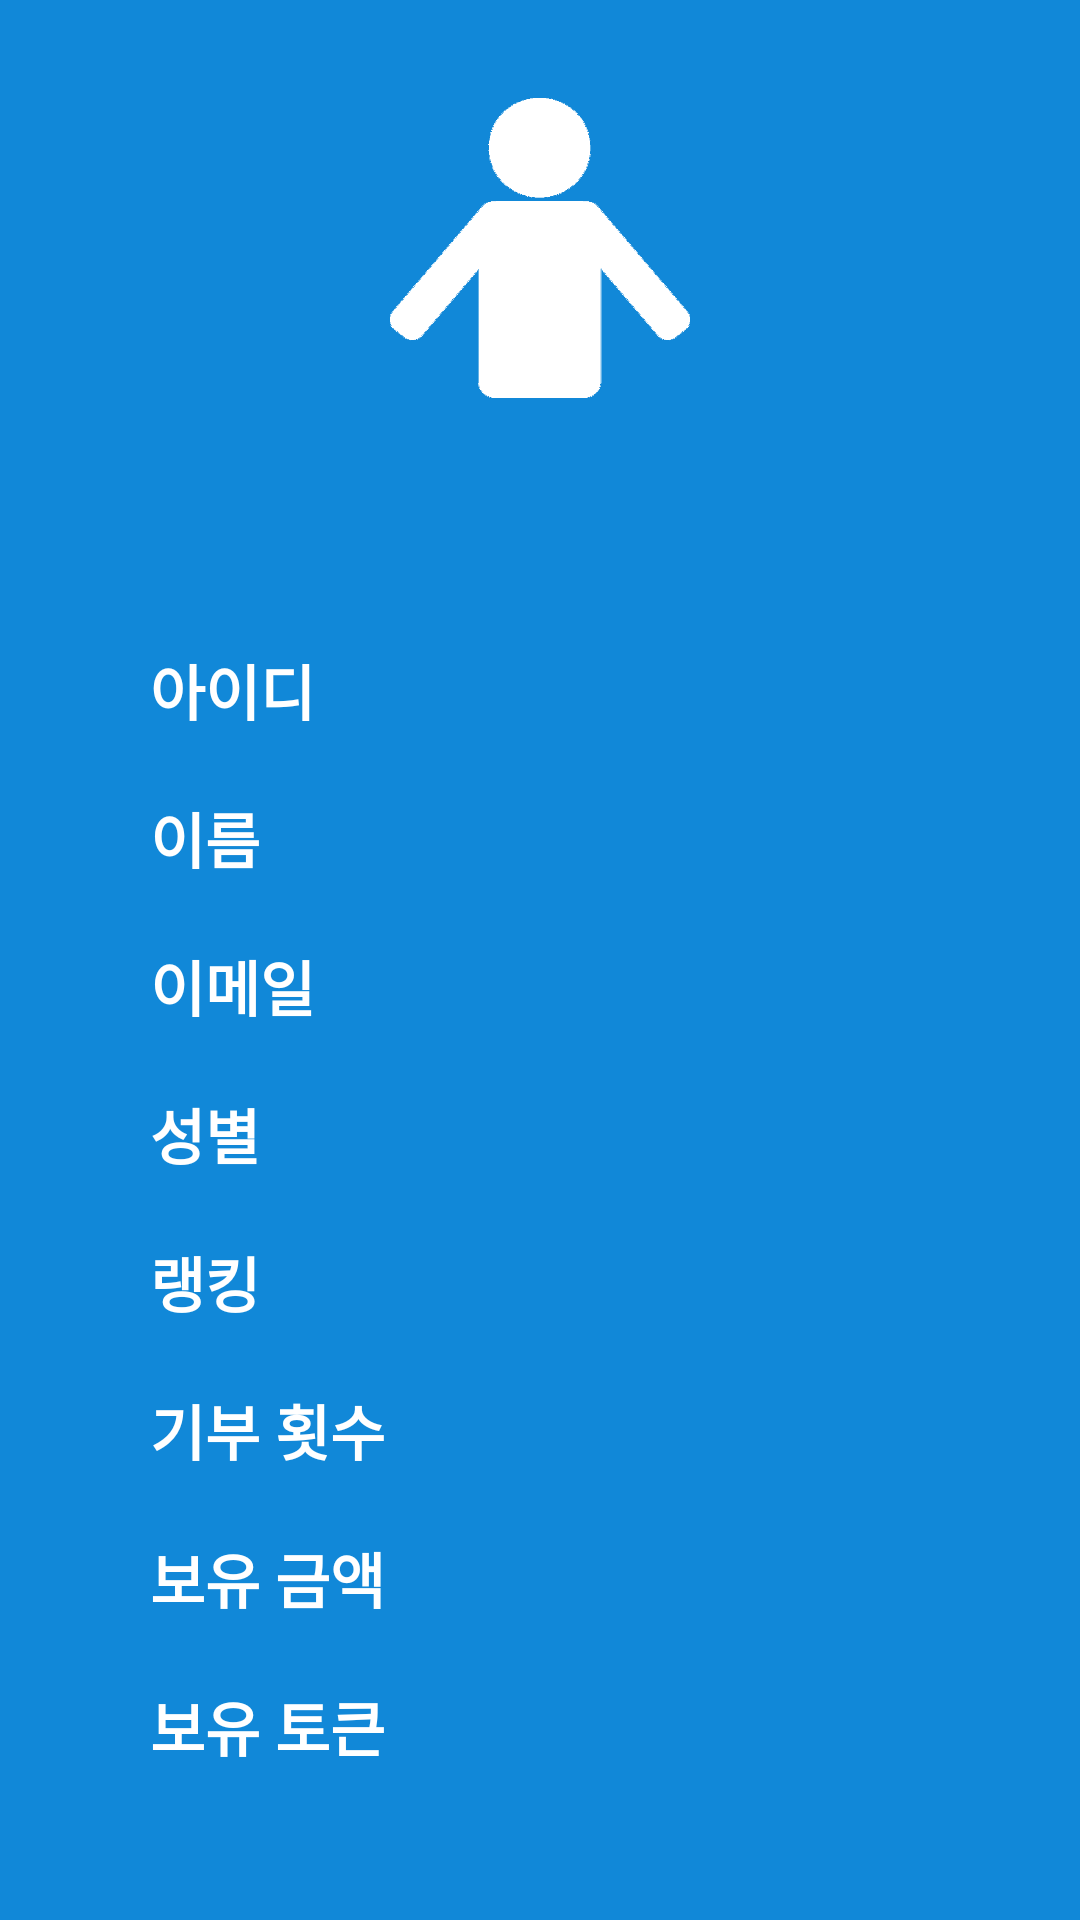

Screen size 1080x1920. Icon name, then its center in pixels as [x,y]:
man: [540,248]
